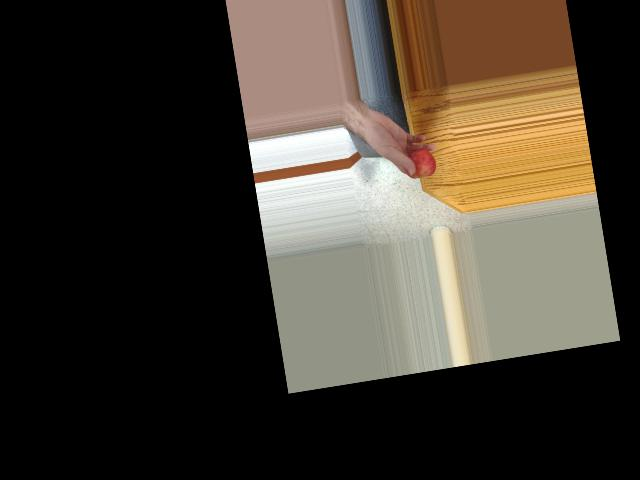apple: (402, 146, 436, 182)
